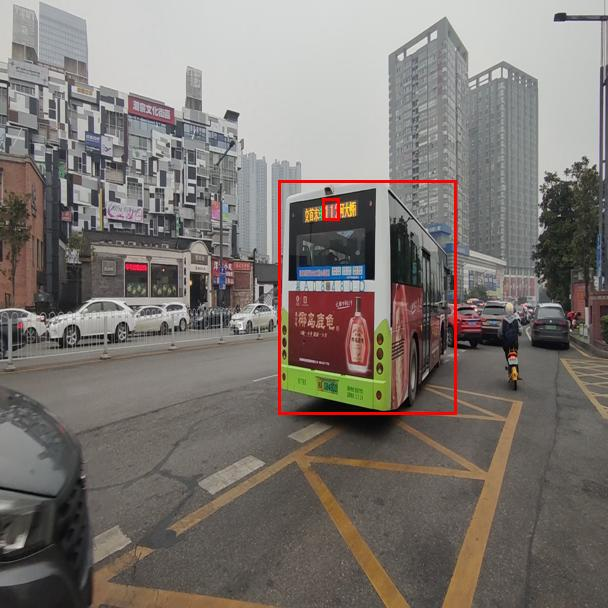bus: (278, 180, 456, 414)
screen: (322, 198, 339, 220)
